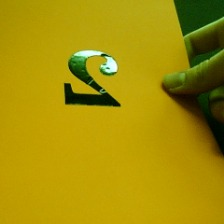orange2: (50, 46, 130, 112)
